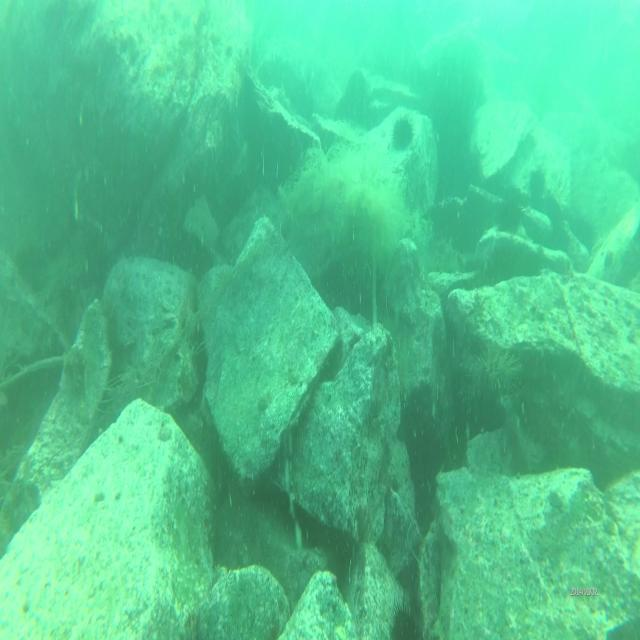echinus: (475, 342, 523, 406), (388, 604, 418, 640), (393, 110, 416, 150), (526, 164, 548, 197)
